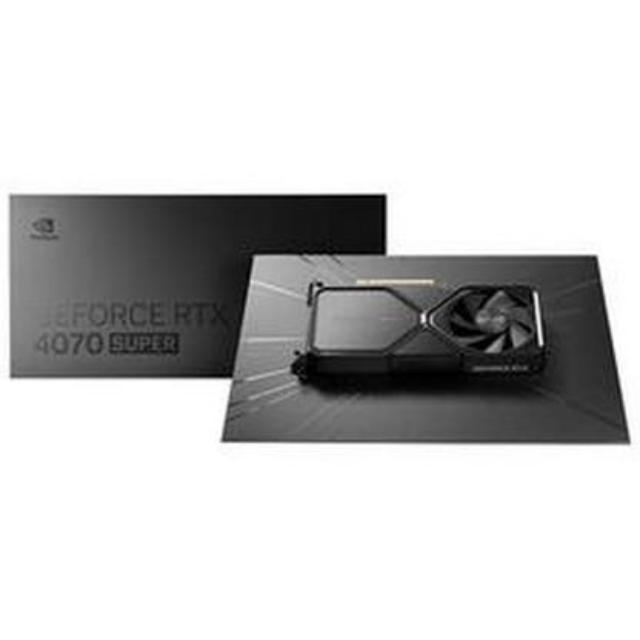GPU: (288, 264, 560, 398)
